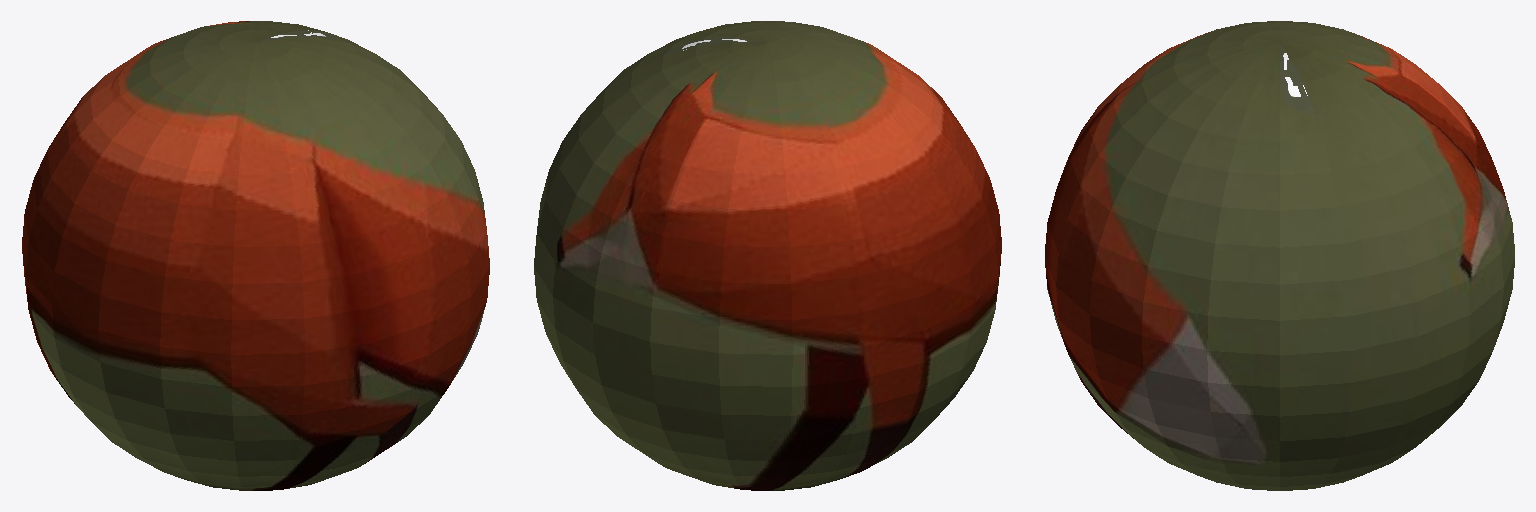
The picture shows the model from 3 angles: view 1: azimuth 30°, elevation 25°; view 2: azimuth 150°, elevation 25°; view 3: azimuth 270°, elevation 25°; orthographic projection.
Size of the model in its own units: 2 by 2 by 2.
1 materials, 1 textured.